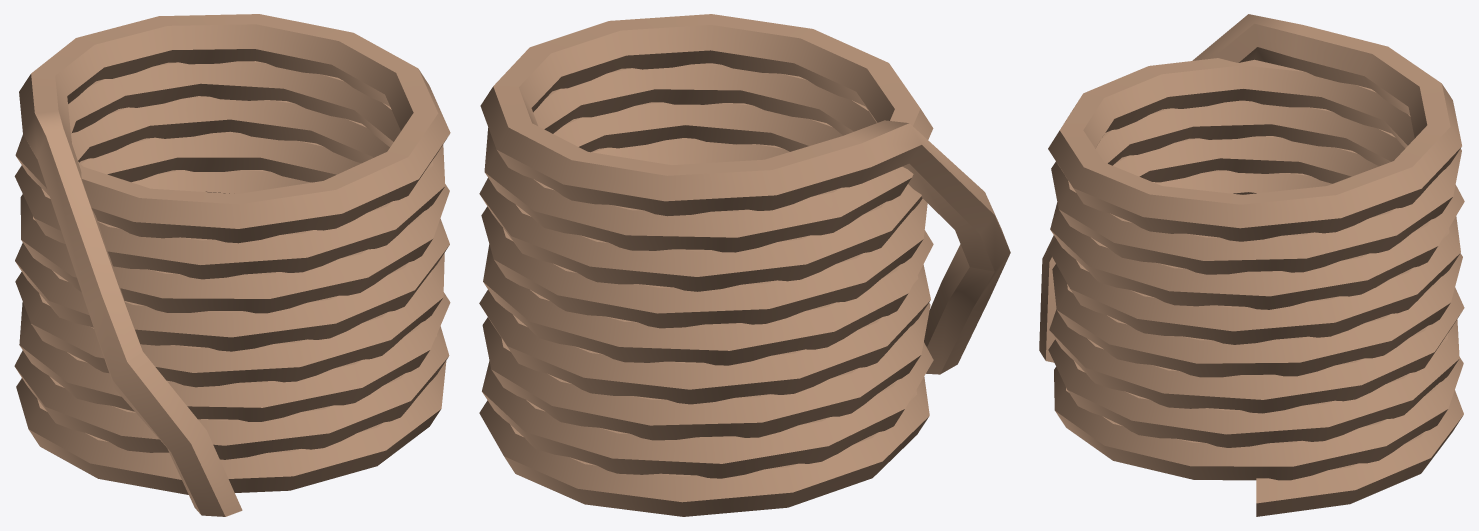
File: Rope Coil 2.fbx
3 views of the same model, side by side, from view 1: azimuth 30°, elevation 25°; view 2: azimuth 150°, elevation 25°; view 3: azimuth 270°, elevation 25° (orthographic). The views are drawn at different scales.
Visible parts, largest first — view 1: Rope_Coil_2; view 2: Rope_Coil_2; view 3: Rope_Coil_2.
Part boxes in pixels (box(x1,y1,x2,y2)): Rope_Coil_2: box(14, 14, 450, 516); Rope_Coil_2: box(479, 14, 1010, 516); Rope_Coil_2: box(1039, 14, 1464, 516).
Bounding box in the file's own units: 37.81 × 31.4 × 36.6.
